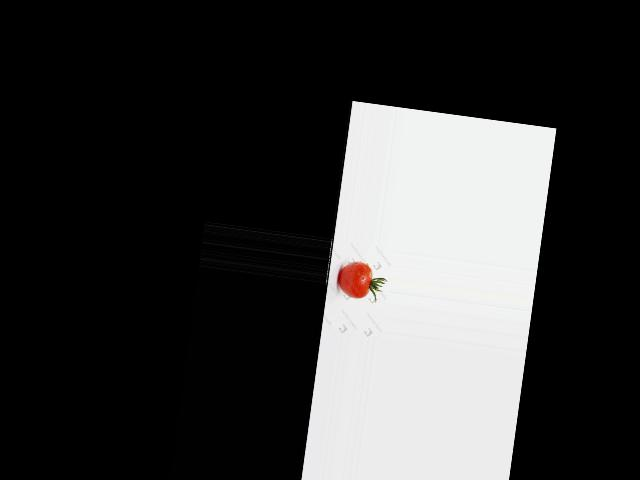tomato: (336, 260, 373, 300)
